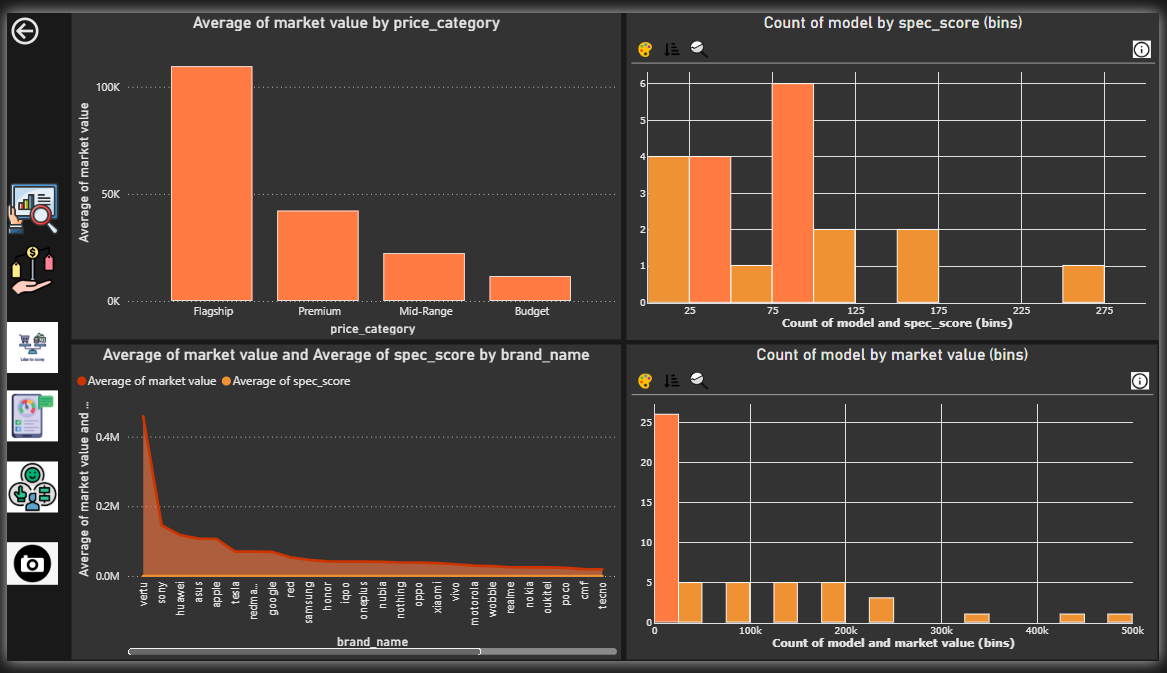

This screenshot's page, from the dashboard's own definition file:
{"tool":"powerbi","page":{"name":"Price v/s Performance Analysis","canvas":[1280,720],"ordinal":1},"visuals":[{"type":"areaChart","fields":{"Category":["Brand.brand_name"],"Y":["Avg(smartprix_smartphones_april_202.market value)","Avg(smartprix_smartphones_april_202.spec_score)"]},"box":[71.6,369,610.8,349.9],"z":0},{"type":"columnChart","fields":{"Category":["Price Category.price_category"],"Y":["Avg(smartprix_smartphones_april_202.market value)"]},"box":[71.6,0,610.8,362.7],"z":1000},{"type":"histogramF963F133BA02A0B35D286F09F80E9C78","fields":{"col_2":["Model.model"],"col_4":["smartprix_smartphones_april_202.spec_score (bins)"]},"box":[688.7,0,591.7,362.7],"z":2000},{"type":"histogramF963F133BA02A0B35D286F09F80E9C78","fields":{"col_2":["Model.model"],"col_4":["smartprix_smartphones_april_202.market value (bins)"]},"box":[688.7,369,590.1,349.9],"z":3000},{"type":"actionButton","box":[0,0,100,40],"z":4000},{"type":"image","box":[0,182.9,57.3,68.4],"z":15000},{"type":"image","box":[0,310,56.7,123.3],"z":16000},{"type":"image","box":[0,241.7,56.7,88.3],"z":17000},{"type":"image","box":[0,410,56.7,75],"z":18000},{"type":"image","box":[0,485,56.7,83.3],"z":19000},{"type":"image","box":[0,556.7,56.7,110],"z":20000},{"type":"pageNavigator","box":[0,173.3,56.7,473.3],"z":20500}]}

Visuals, with their boxes on the page's 1280x720 design canvas (x1, y1, x2, y2). These are canvas units, not pixel positions in the 1167x673 screenshot, which may show the page scaled, cropped or inside an application window:
areaChart - Brand.brand_name x Avg(smartprix_smartphones_april_202.market value): <bbox>72, 369, 682, 719</bbox>
columnChart - Price Category.price_category x Avg(smartprix_smartphones_april_202.market value): <bbox>72, 0, 682, 363</bbox>
histogramF963F133BA02A0B35D286F09F80E9C78 - Model.model x smartprix_smartphones_april_202.spec_score (bins): <bbox>689, 0, 1280, 363</bbox>
histogramF963F133BA02A0B35D286F09F80E9C78 - Model.model x smartprix_smartphones_april_202.market value (bins): <bbox>689, 369, 1279, 719</bbox>
actionButton: <bbox>0, 0, 100, 40</bbox>
image: <bbox>0, 183, 57, 251</bbox>
image: <bbox>0, 310, 57, 433</bbox>
image: <bbox>0, 242, 57, 330</bbox>
image: <bbox>0, 410, 57, 485</bbox>
image: <bbox>0, 485, 57, 568</bbox>
image: <bbox>0, 557, 57, 667</bbox>
pageNavigator: <bbox>0, 173, 57, 647</bbox>
